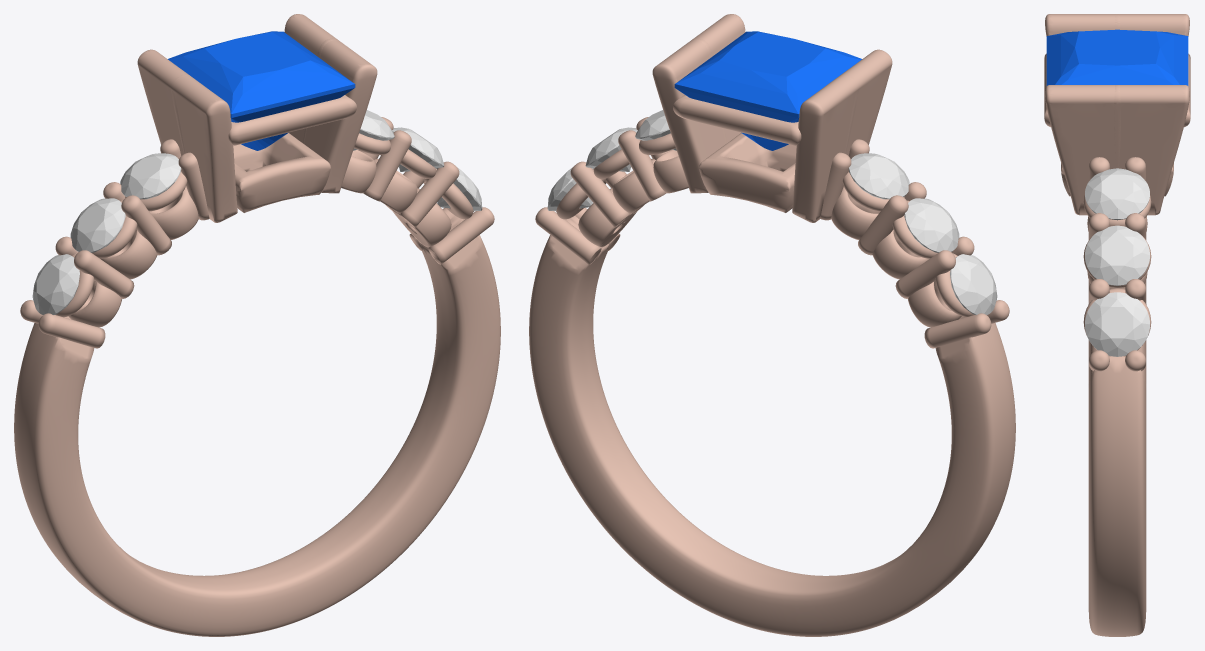
File: bluesapphire-princess-rosegold-halfmoonbezel-straightband-7stone.glb
3 renders of one model, left to right at view 1: azimuth 30°, elevation 25°; view 2: azimuth 150°, elevation 25°; view 3: azimuth 270°, elevation 25°, orthographic.
Visible parts, largest first — view 1: metal, stone, side.001, side, side.002, side.004, side.003; view 2: metal, stone, side.001, side, side.002, side.004, side.003; view 3: metal, stone, side.005, side.004, side.003.
Part boxes in pixels (x1,y1,x2,y2): metal: (14,14,500,636); stone: (168,31,355,150); side.001: (70,198,125,252); side: (32,254,79,314); side.002: (120,153,181,199); side.004: (392,127,444,171); side.003: (353,110,394,150); metal: (529,14,1015,636); stone: (674,31,861,150); side.001: (904,198,959,252); side: (950,254,997,314); side.002: (848,153,909,199); side.004: (585,127,637,171); side.003: (635,110,676,150); metal: (1044,14,1190,636); stone: (1046,29,1188,85); side.005: (1085,292,1149,356); side.004: (1085,225,1149,285); side.003: (1085,168,1149,220).
Size of the model in its own units: 20.5 by 23.86 by 5.6.
